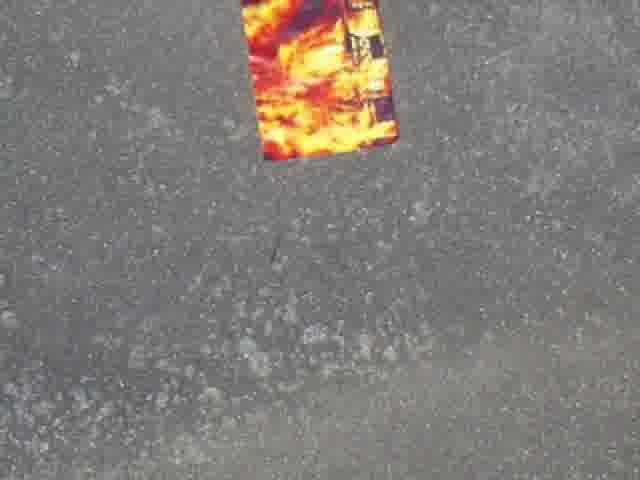fire-poster: (239, 0, 399, 163)
